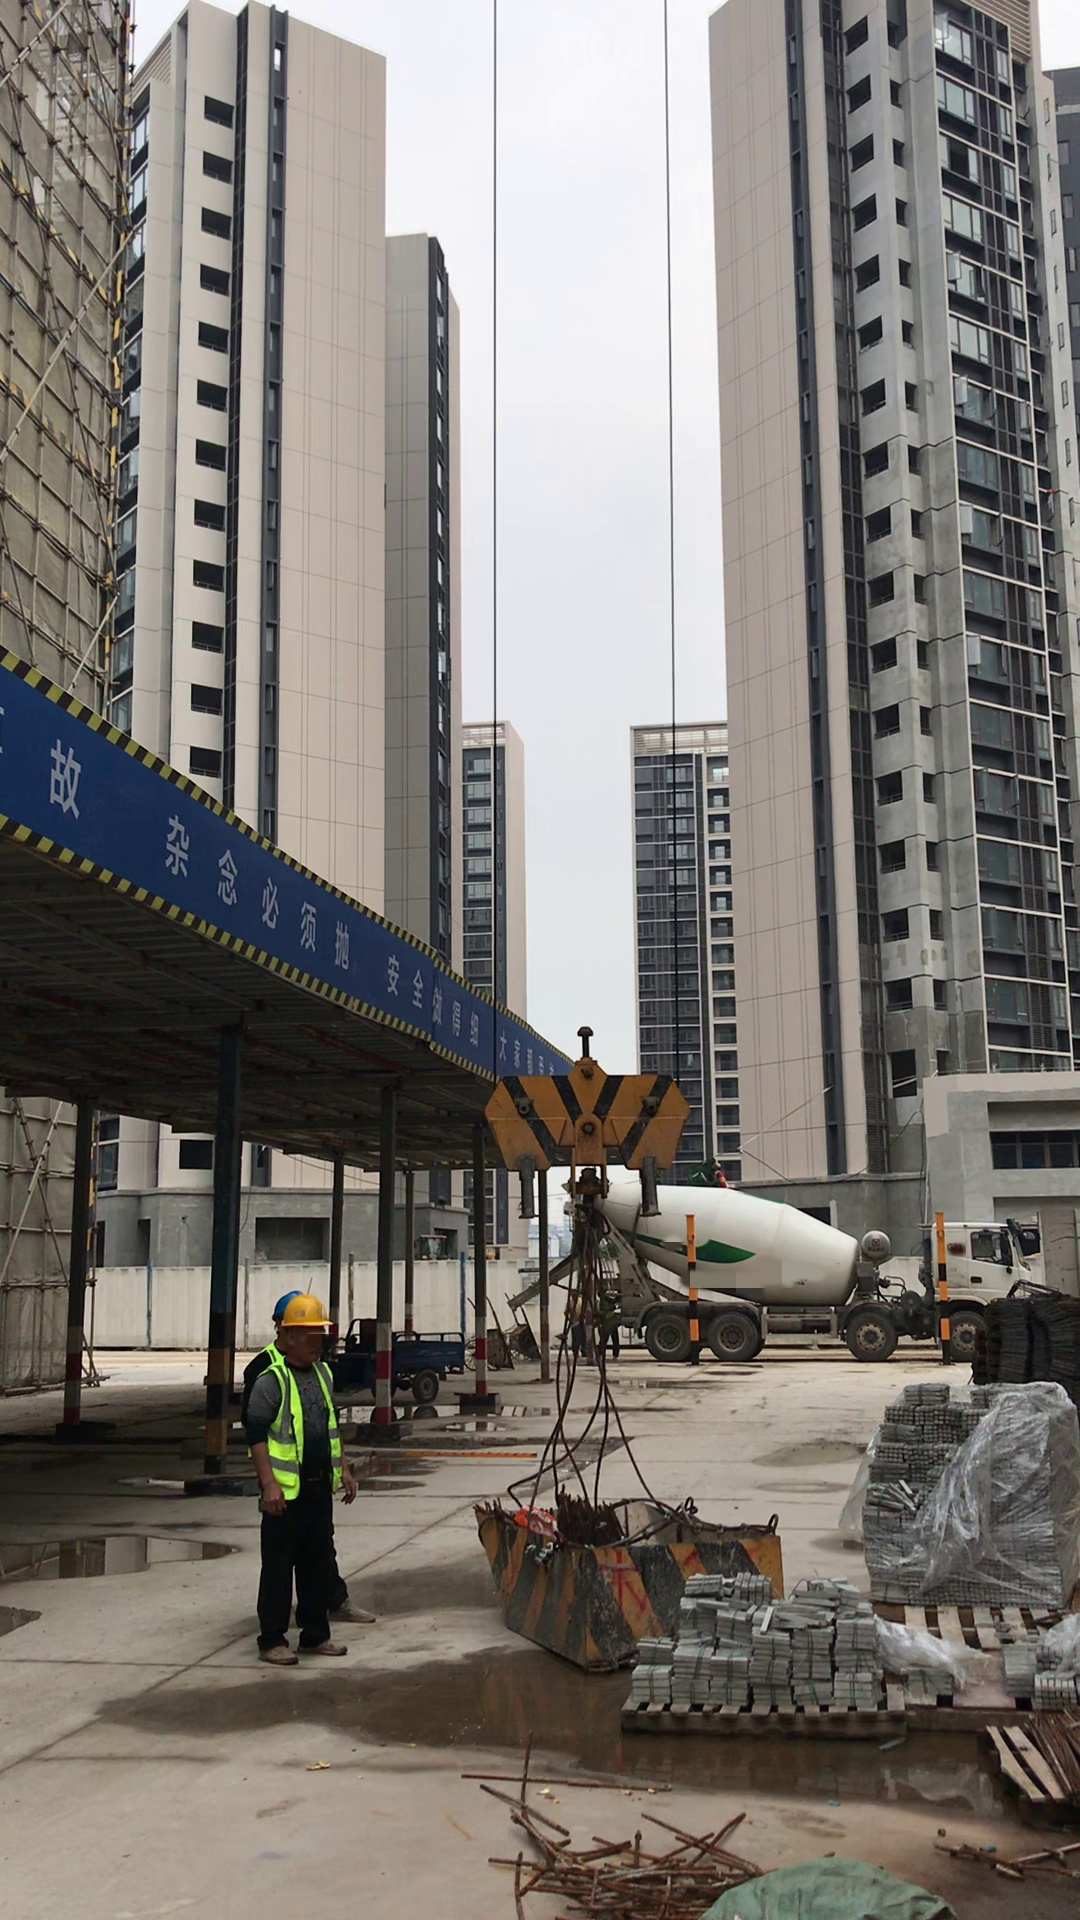helmet: (274, 1284, 339, 1336)
hook: (477, 1015, 692, 1195)
person: (256, 1291, 349, 1673)
slogan: (16, 650, 567, 1098)
vest: (266, 1348, 345, 1506)
